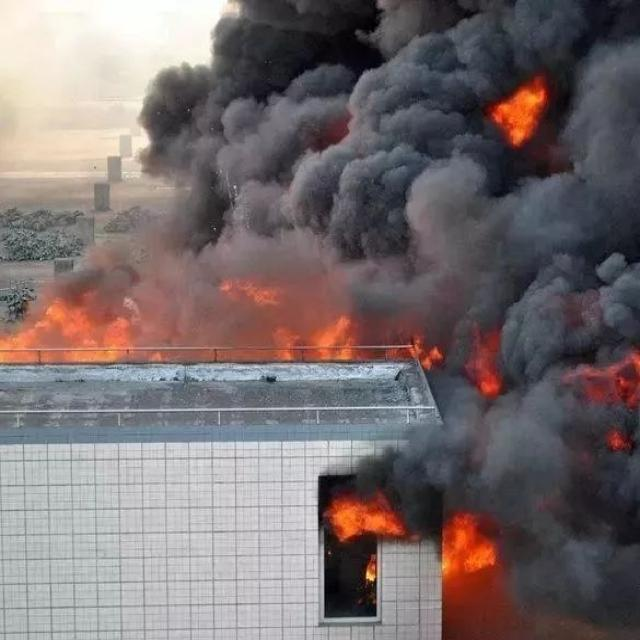Fire: (2, 295, 165, 362), (322, 489, 406, 544), (270, 314, 359, 362), (442, 512, 498, 577), (490, 87, 547, 147), (583, 352, 640, 408), (465, 333, 509, 399), (382, 338, 444, 371), (364, 552, 378, 582)
Smoke: (30, 2, 640, 639)
